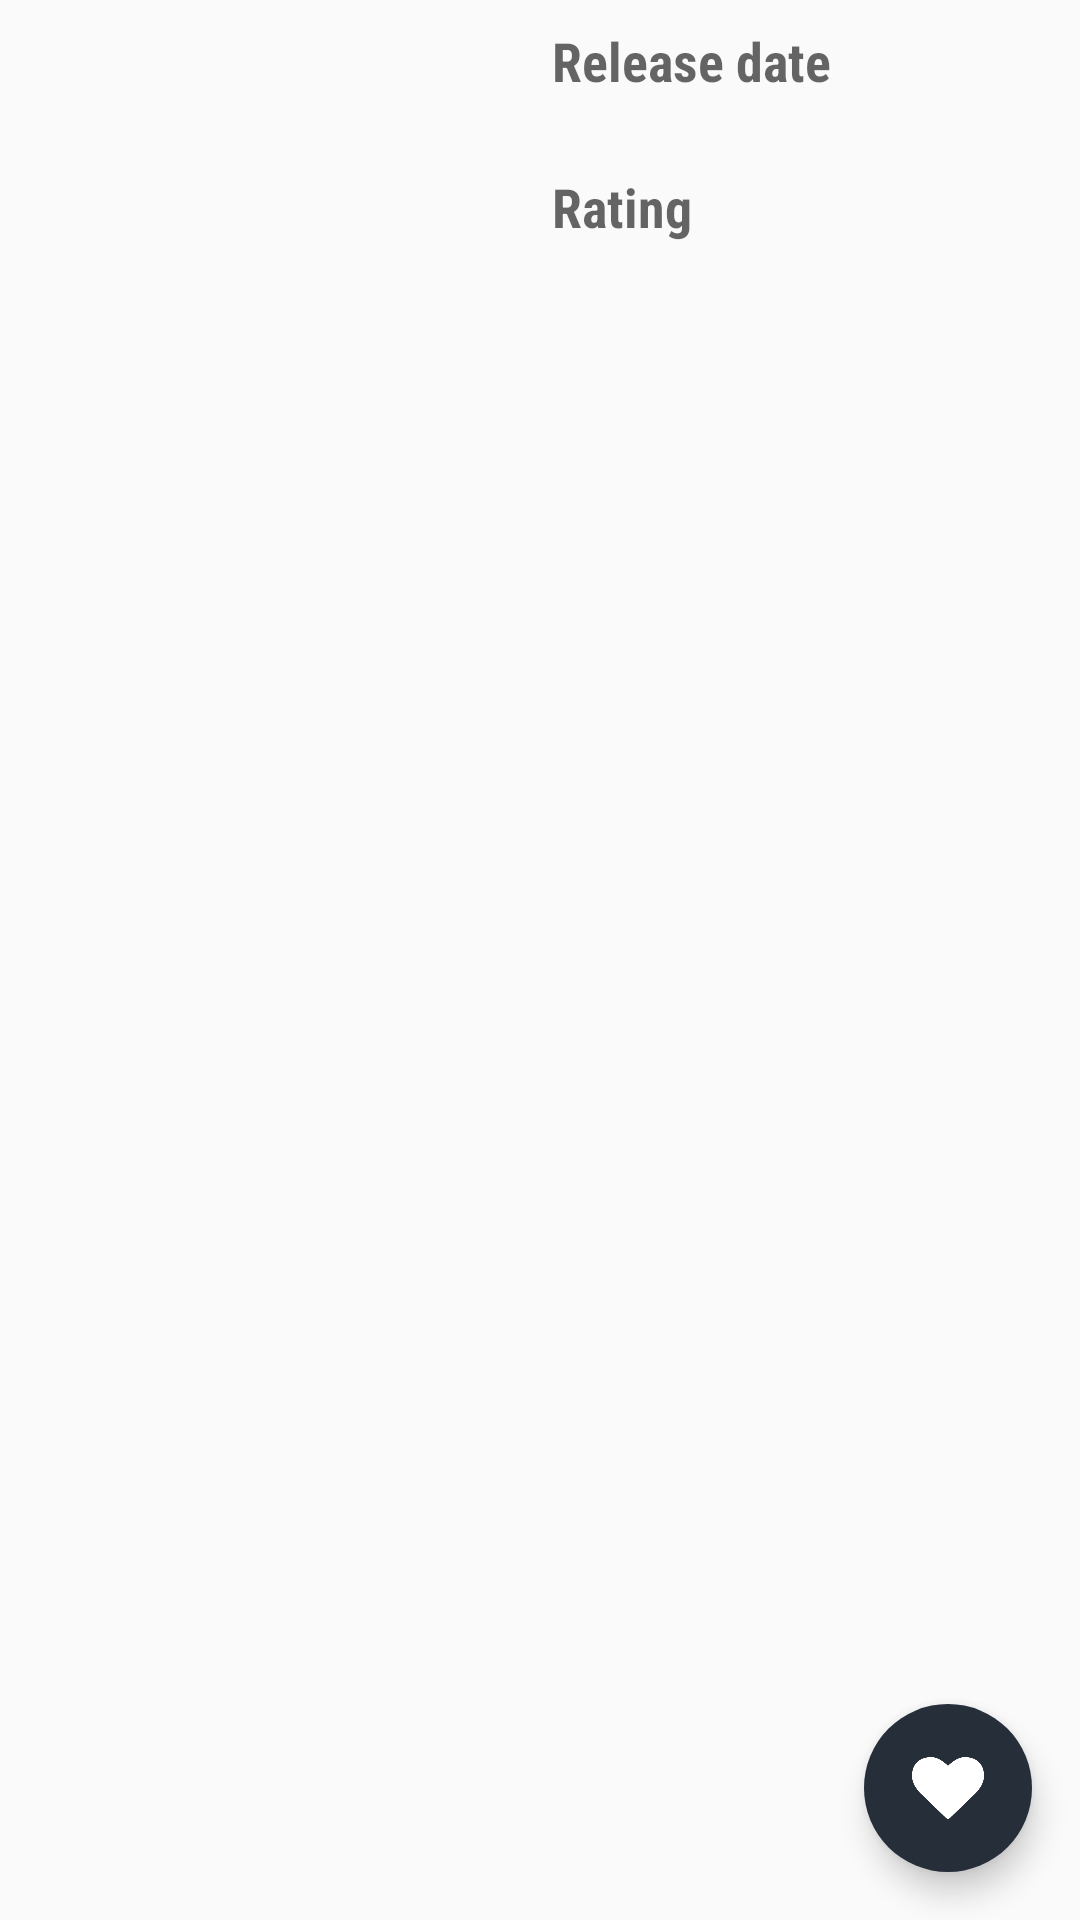

Where to tap for icons on this 1080px×1920px app screen, as [x,y]:
fab heart: [948,1788]
